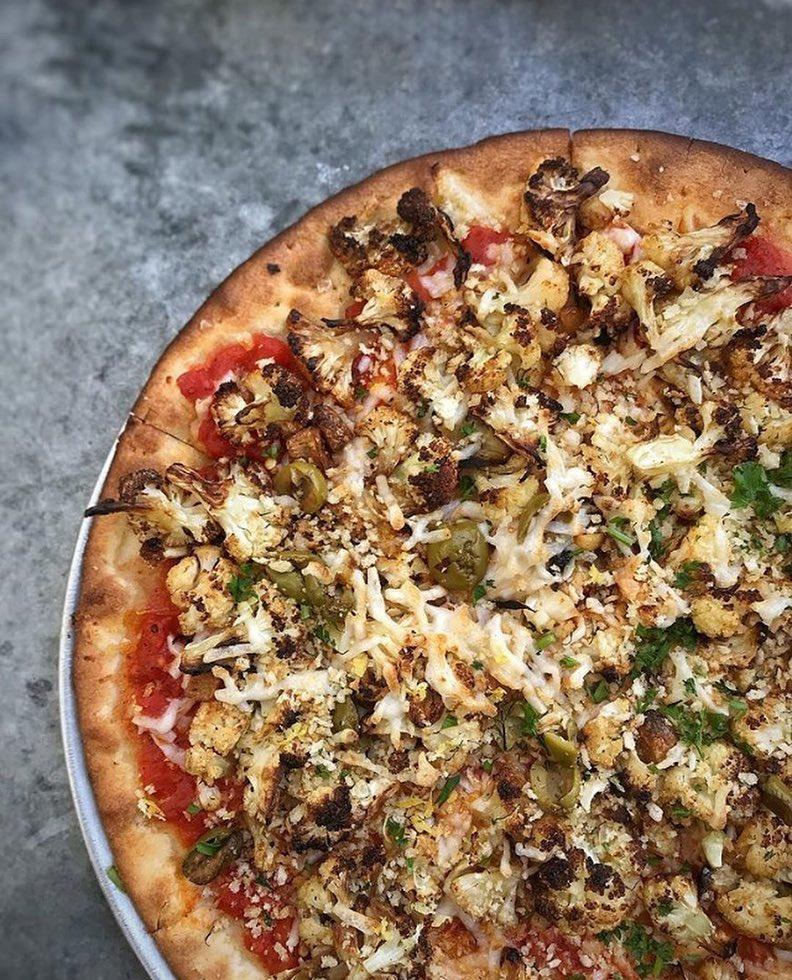Chicken: (633, 272, 792, 373), (643, 205, 764, 284), (634, 870, 723, 967), (180, 695, 258, 792), (338, 264, 426, 340), (717, 873, 792, 959), (701, 742, 764, 828), (684, 581, 771, 642), (735, 804, 792, 897), (207, 382, 279, 455), (404, 428, 462, 513), (354, 405, 421, 478), (728, 333, 792, 405), (731, 387, 792, 453), (736, 695, 792, 766), (576, 704, 631, 774)
Olives: (426, 513, 490, 590), (266, 453, 333, 520), (522, 755, 585, 820), (513, 490, 555, 541), (539, 729, 585, 771), (767, 768, 792, 813)
Pizza: (67, 120, 792, 980)
